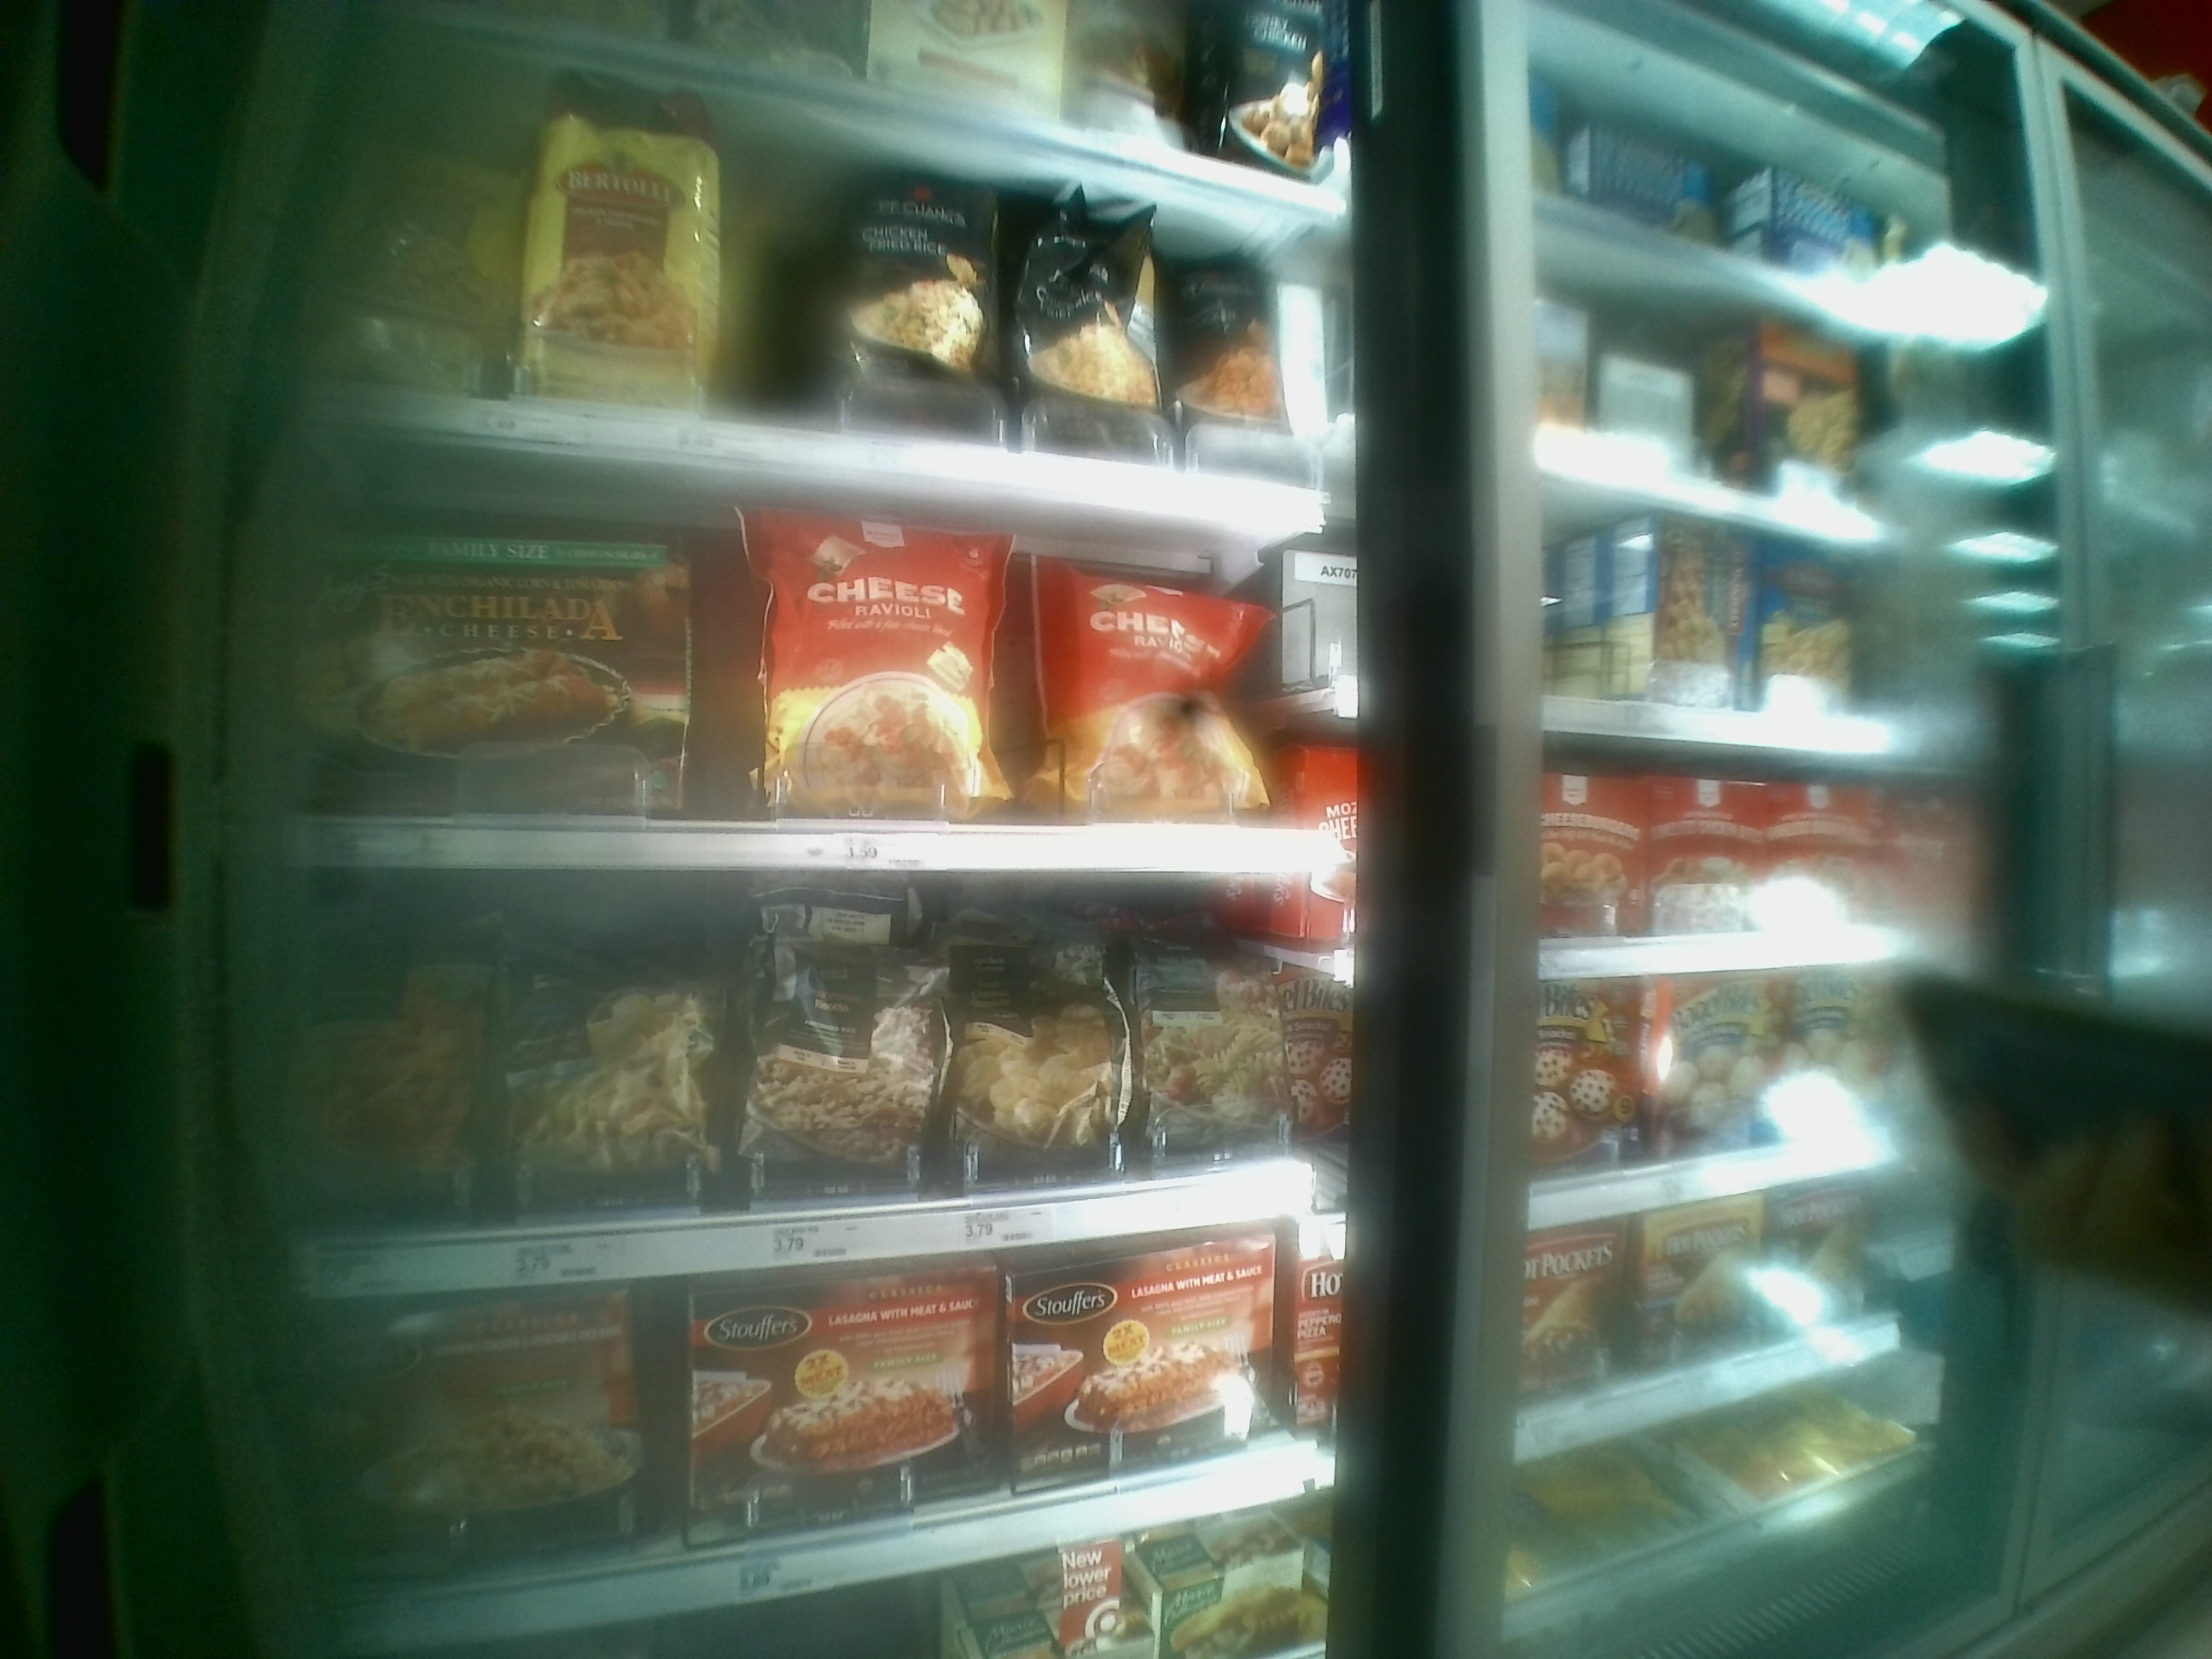frozen-food-shelf: (298, 535, 1338, 877)
